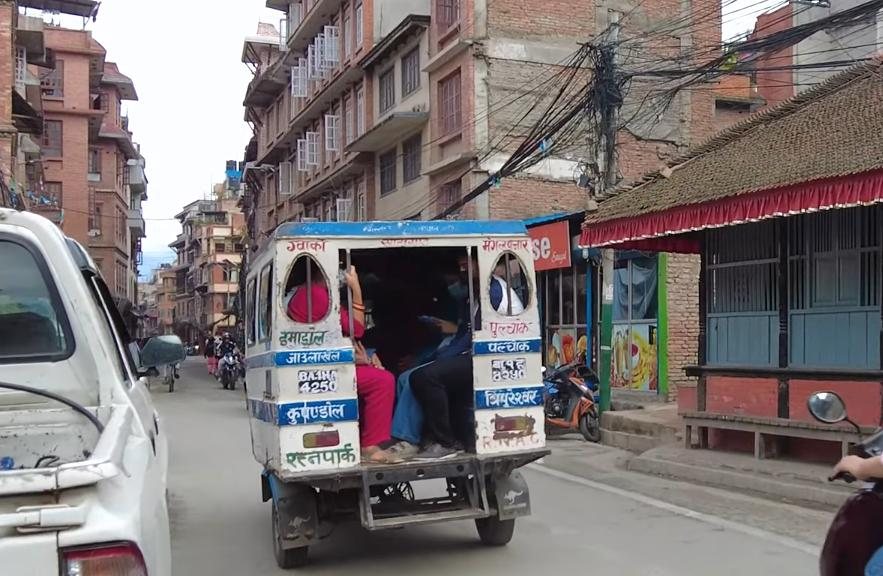scooter: (540, 372, 604, 444)
tempo: (236, 215, 555, 576)
